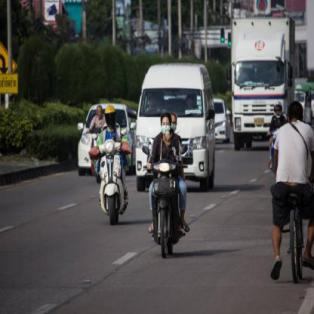Motocicleta: (142, 145, 183, 259), (92, 135, 129, 224)
